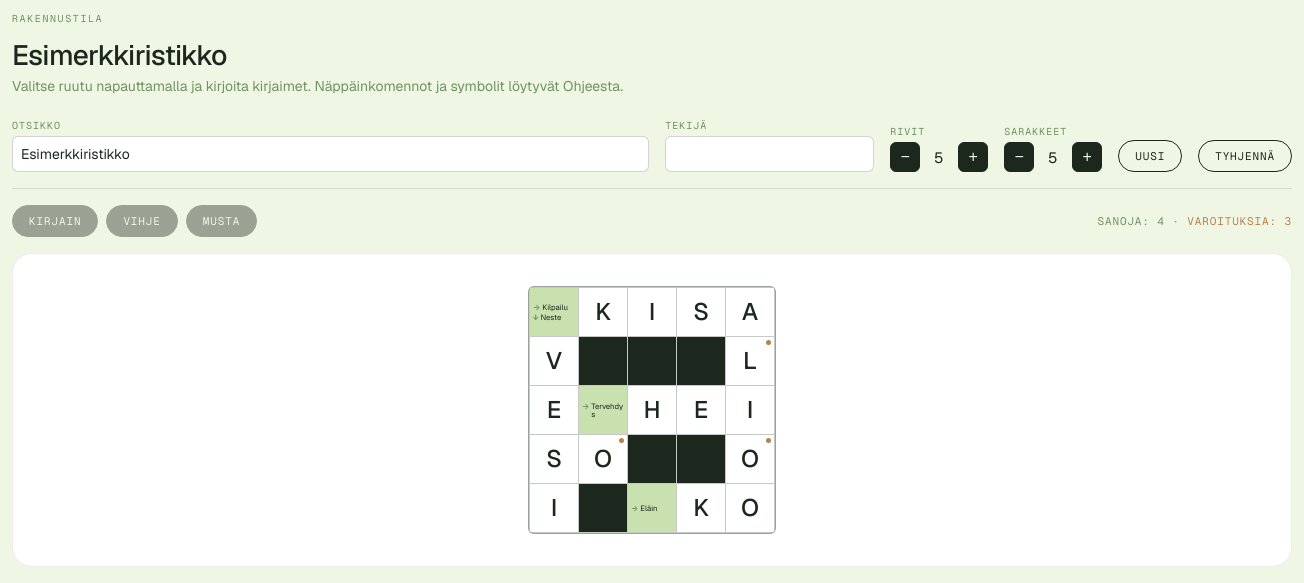
Scenario: BuildMode — clue editor › edits a clue text and reflects it in the grid cell
The width and height of the screenshot is (1304, 583).
Click the cell "→ Kilpailu ↓ Neste": (554, 312) x1=530 y1=288 x2=578 y2=336
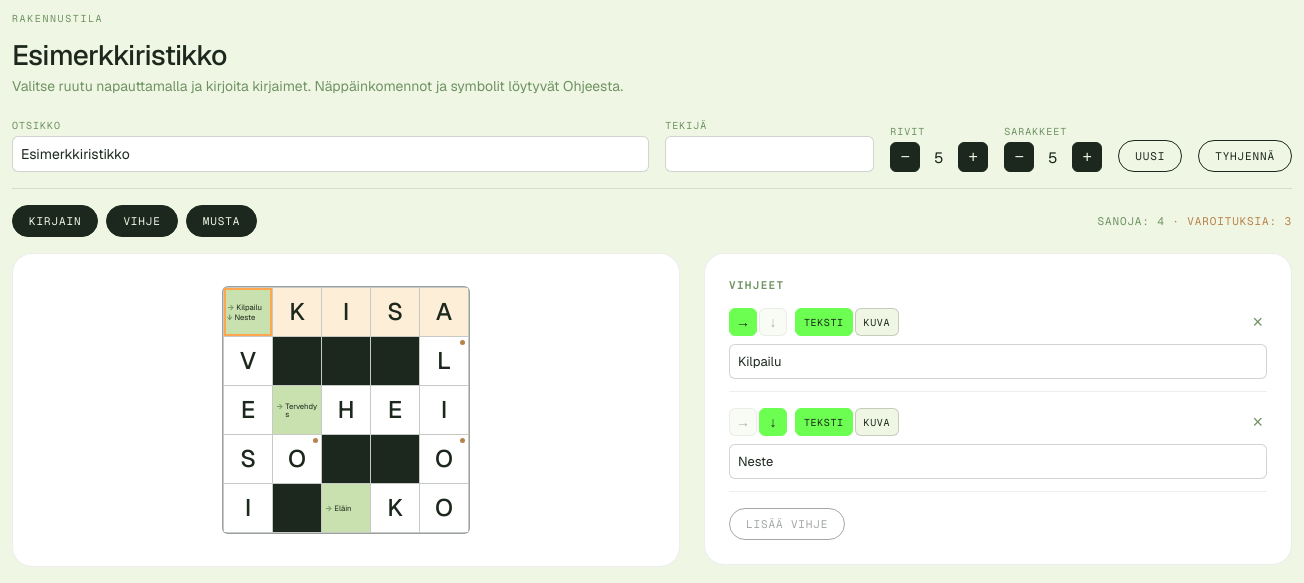
Replace the text in the 1st field with class "clue-row__text" with "Uusi vihje": (998, 362) x1=729 y1=344 x2=1267 y2=379
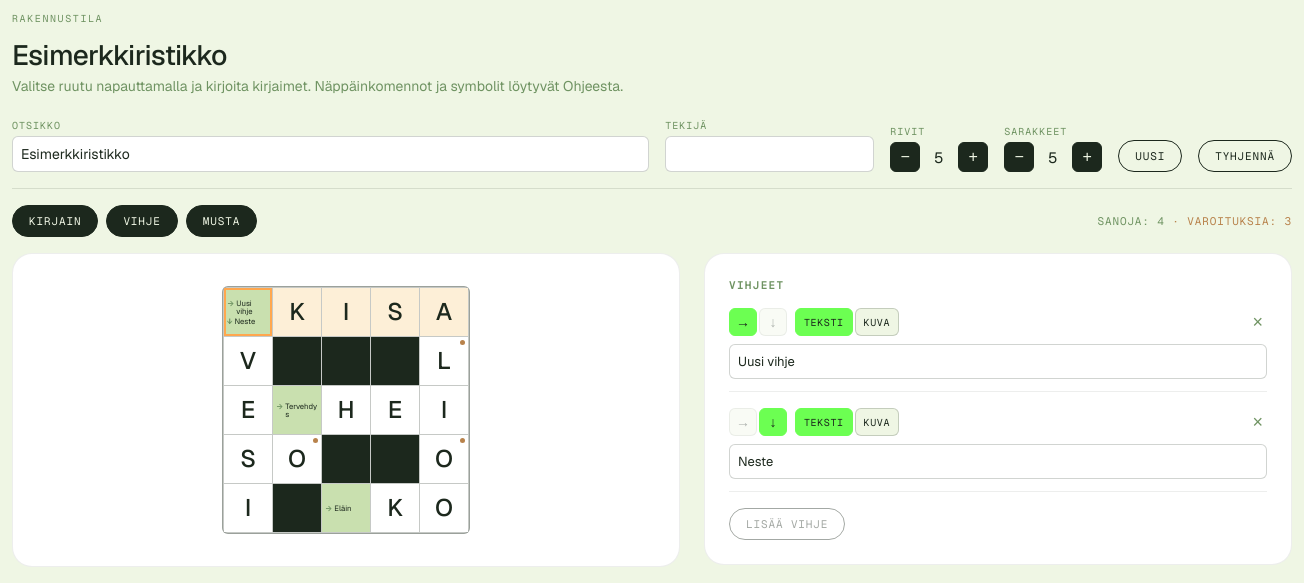
Now the cell "→ Uusi vihje ↓ Neste" is shown, box x1=224 y1=288 x2=272 y2=336
